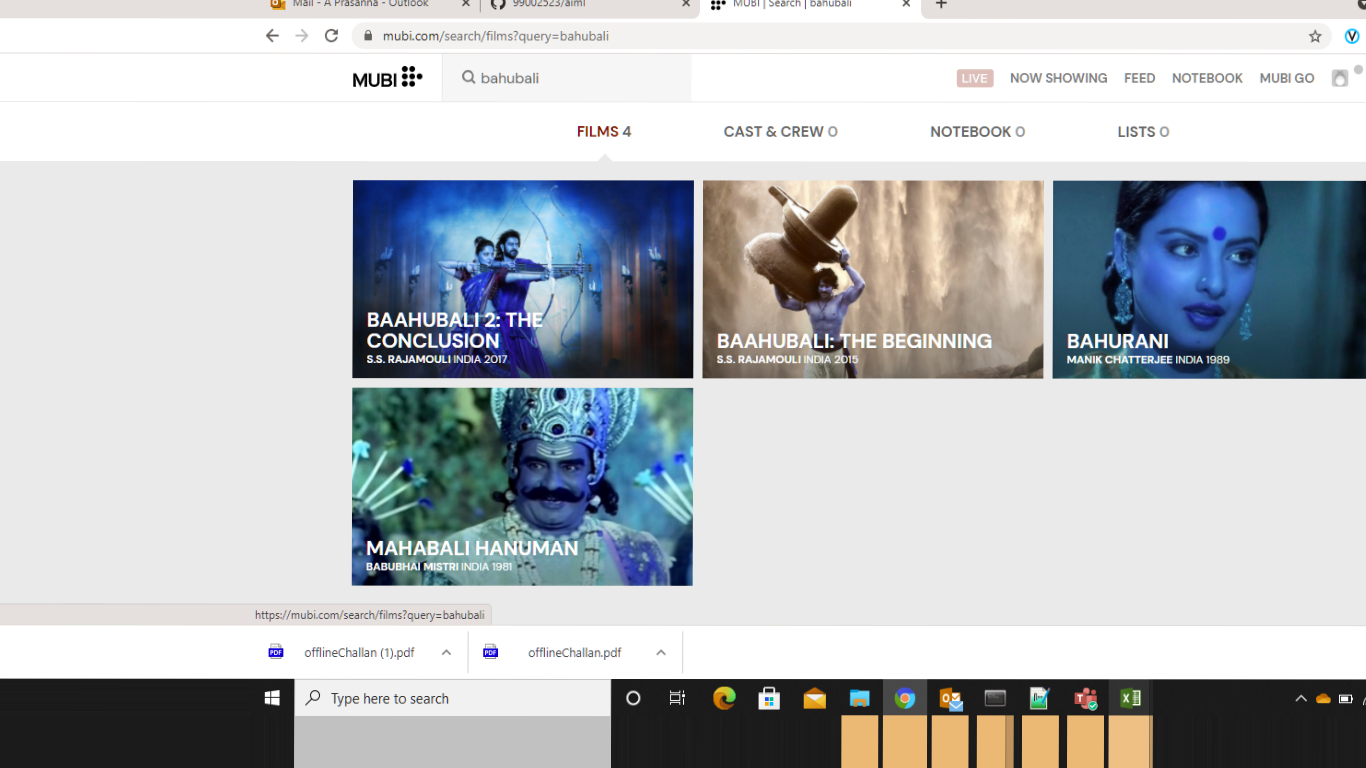profileicon: (1323, 55, 1366, 98)
searchicon: (449, 60, 481, 97)
searchtextbox: (438, 53, 693, 105)
